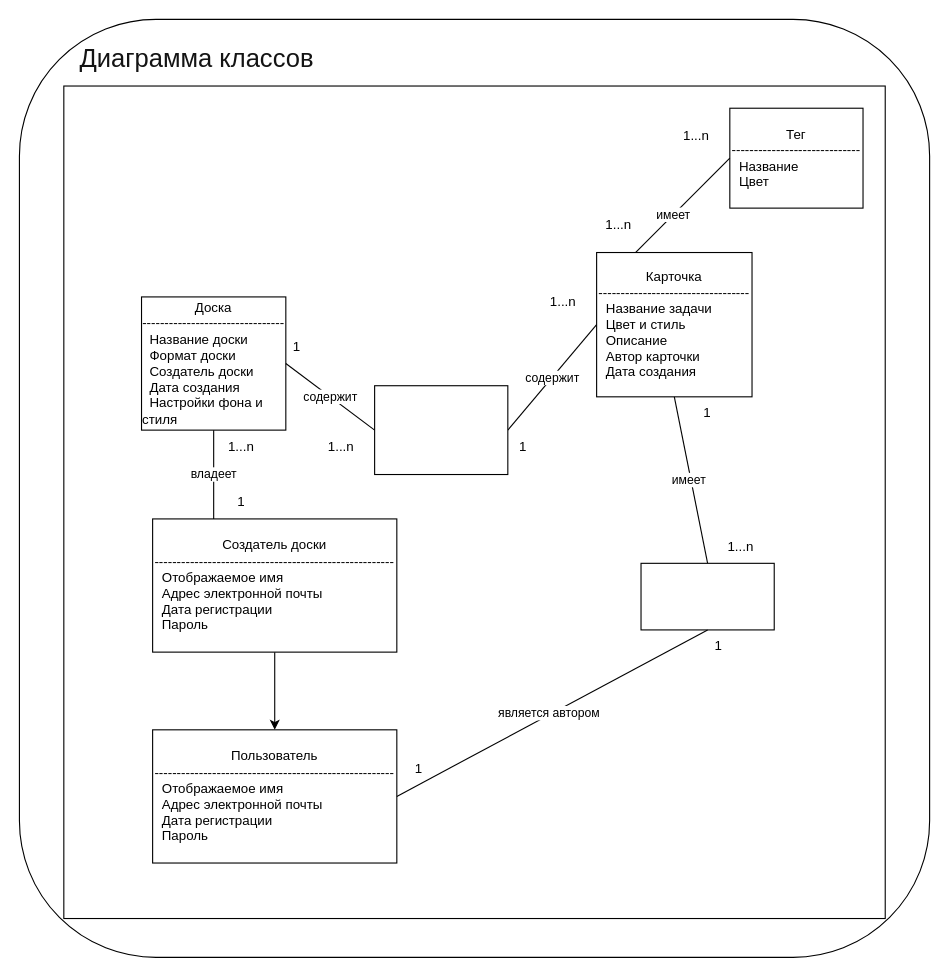
The diagram is 949 pixels wide and 977 high, and some of its shapes have lost their labels. The shapes that lost their labels are listed below. From the top down, each one's centre as x and y in pixels, then its label:
At point (441, 430): "Колонка ----------------------------- Название колонки Цвет и стиль".
At point (707, 596): "Комментарий ----------------------------- Текст Дата создания".
